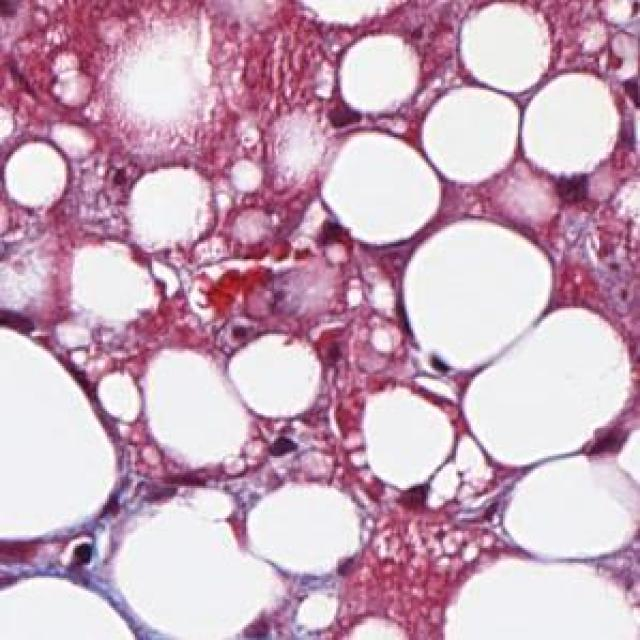ballooning: (133, 342, 265, 478), (124, 154, 225, 266)
